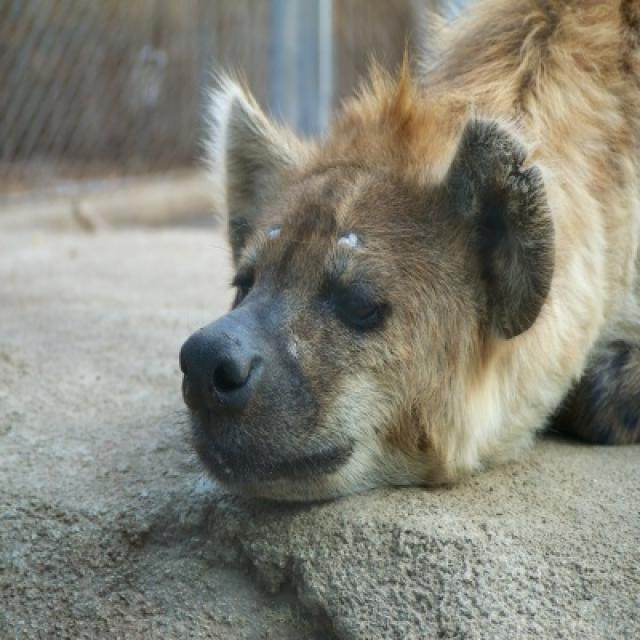hyena: (178, 0, 638, 507)
